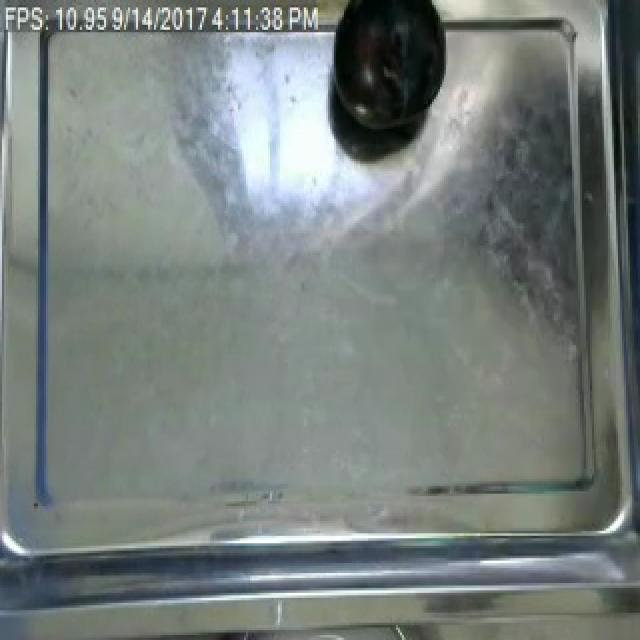Fruit: (328, 0, 448, 141)
